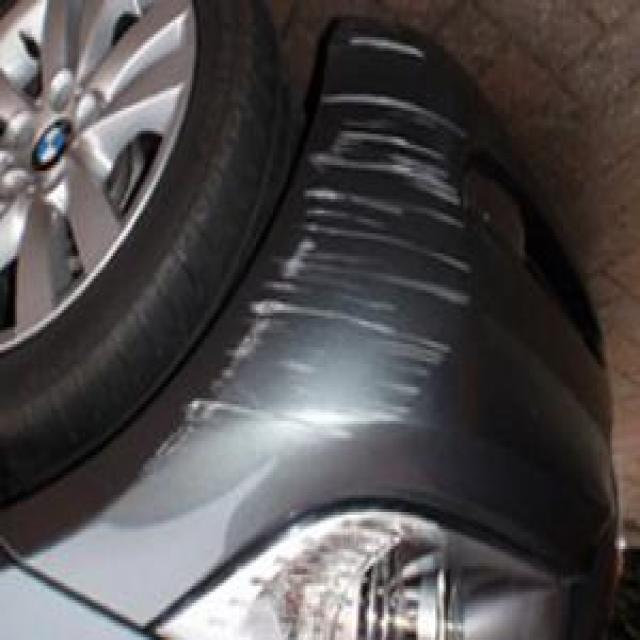scratch: (160, 49, 470, 466)
